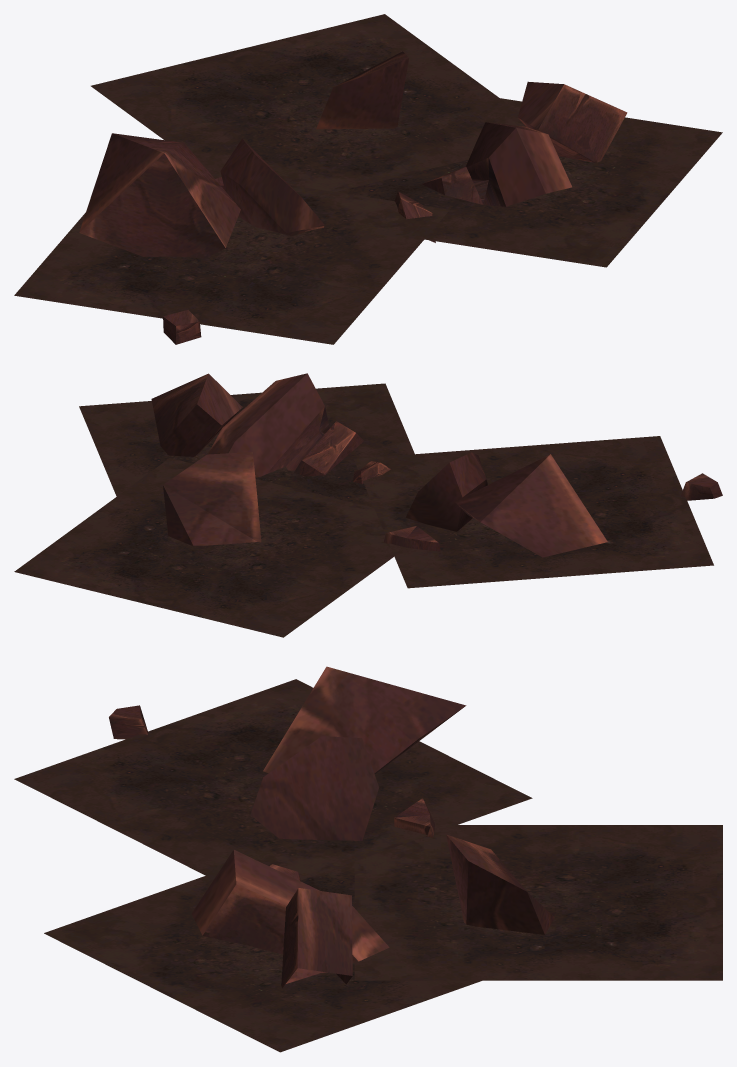
The model's file is lava_rubble_03.fbx.
The picture shows the model from 3 angles, top to bottom: view 1: azimuth 30°, elevation 25°; view 2: azimuth 150°, elevation 25°; view 3: azimuth 270°, elevation 25°; orthographic projection. The views are drawn at different scales.
Parts seen in each view (by area): view 1: lava_rubble_03-0; view 2: lava_rubble_03-0; view 3: lava_rubble_03-0.
Part boxes in pixels (x1,y1,x2,y2): lava_rubble_03-0: (14, 14, 722, 344); lava_rubble_03-0: (14, 373, 722, 637); lava_rubble_03-0: (14, 666, 722, 1052).
Bounding box in the file's own units: 9.53 × 1.54 × 7.7.
